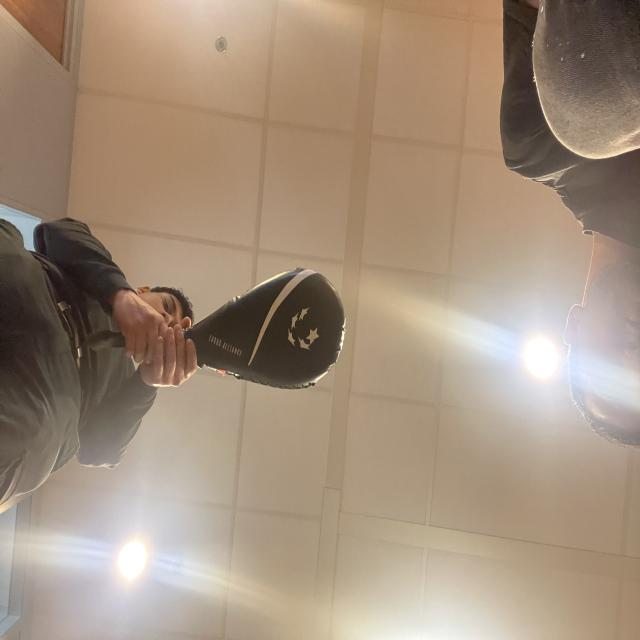paddle: (213, 267, 342, 381)
